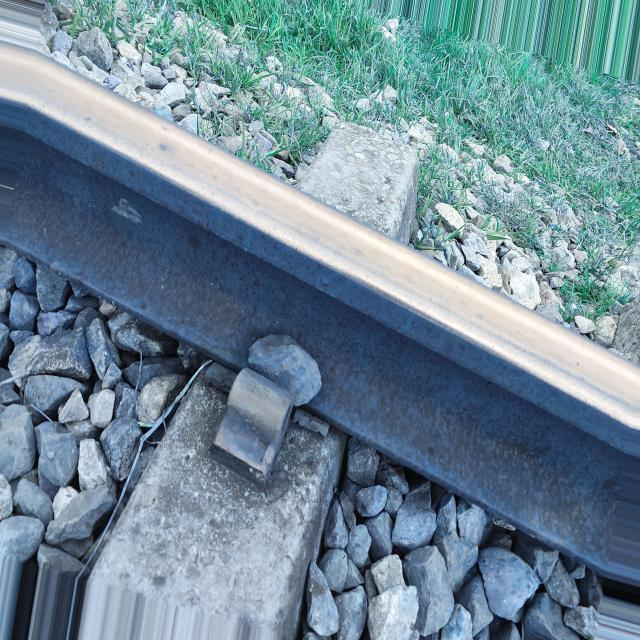Missing Fastener: (197, 327, 313, 510)
